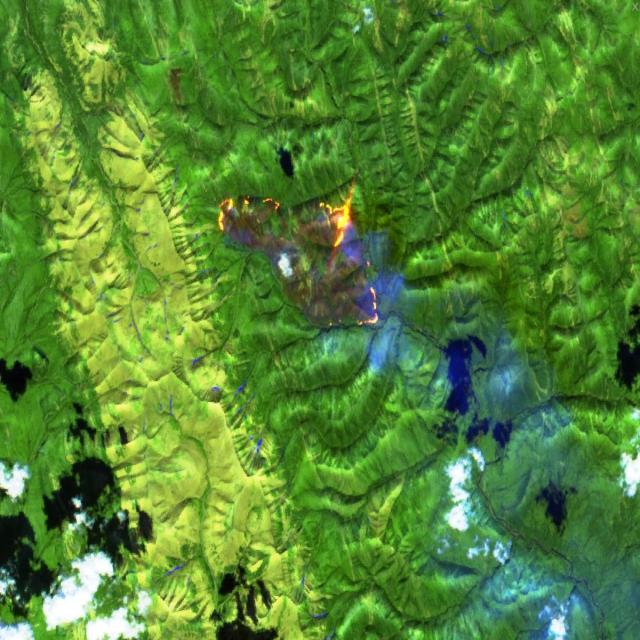fire: (212, 171, 368, 266)
